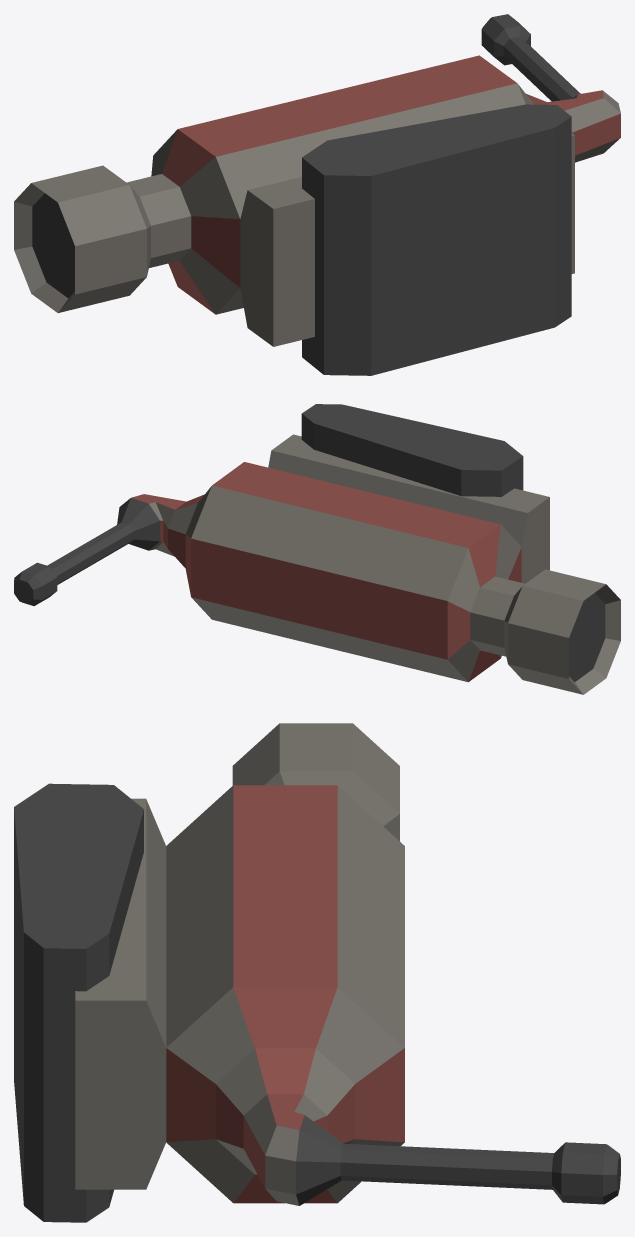
File: cam.fbx
The picture shows the model from 3 angles, top to bottom: view 1: azimuth 30°, elevation 25°; view 2: azimuth 150°, elevation 25°; view 3: azimuth 270°, elevation 25°; orthographic projection. The views are drawn at different scales.
Parts seen in each view (by area): view 1: Cube; view 2: Cube; view 3: Cube.
Part boxes in pixels (x1,y1,x2,y2): Cube: (14, 14, 620, 375); Cube: (14, 404, 620, 694); Cube: (14, 723, 620, 1222).
Bounding box in the file's own units: 344 × 113 × 228.
